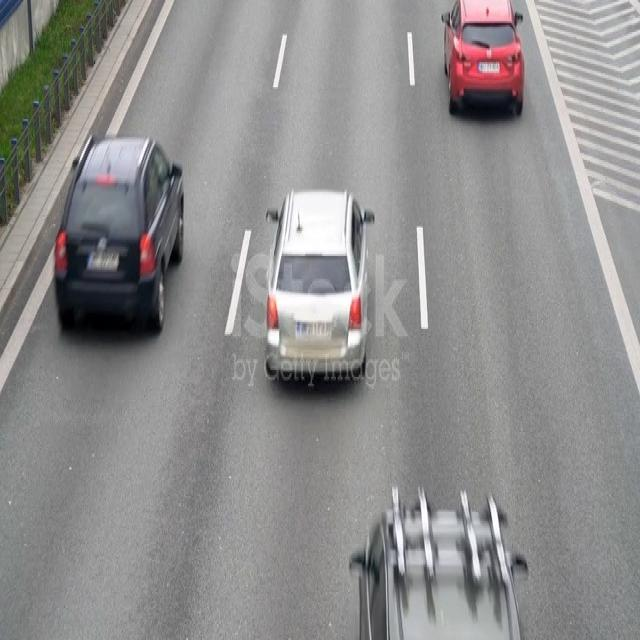Car: (47, 132, 188, 336), (354, 483, 529, 640), (264, 181, 378, 398), (441, 0, 526, 113)
